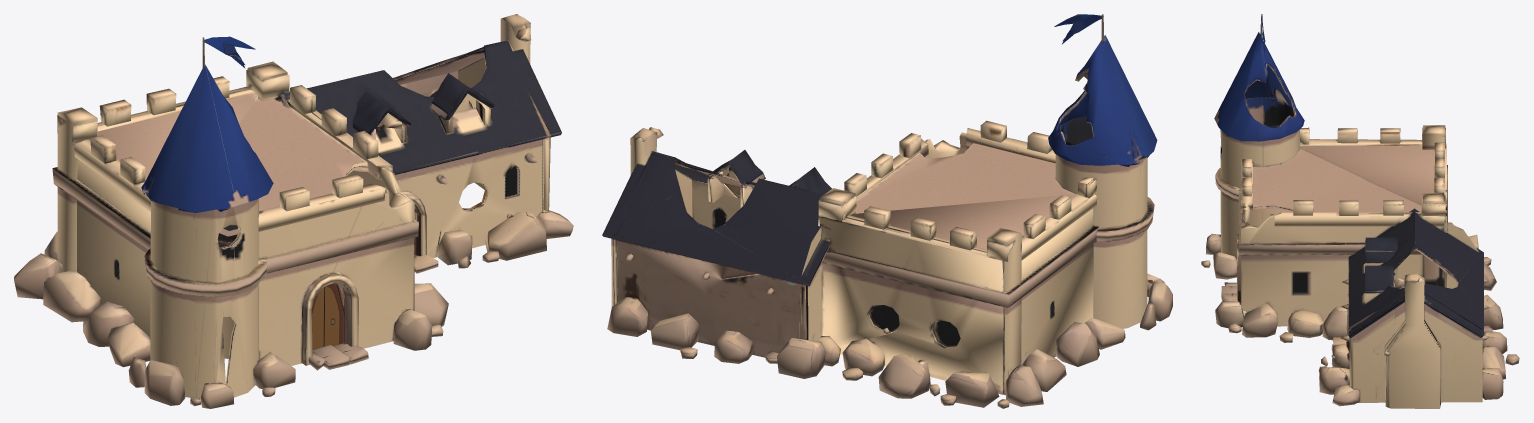
Rendered from meshy-c7-d2.glb.
The picture shows the model from 3 angles, left to right: view 1: azimuth 30°, elevation 25°; view 2: azimuth 150°, elevation 25°; view 3: azimuth 270°, elevation 25°; orthographic projection. The views are drawn at different scales.
Size of the model in its own units: 1 by 0.6642 by 0.7776.
Materials: 1 (1 with a texture image).
